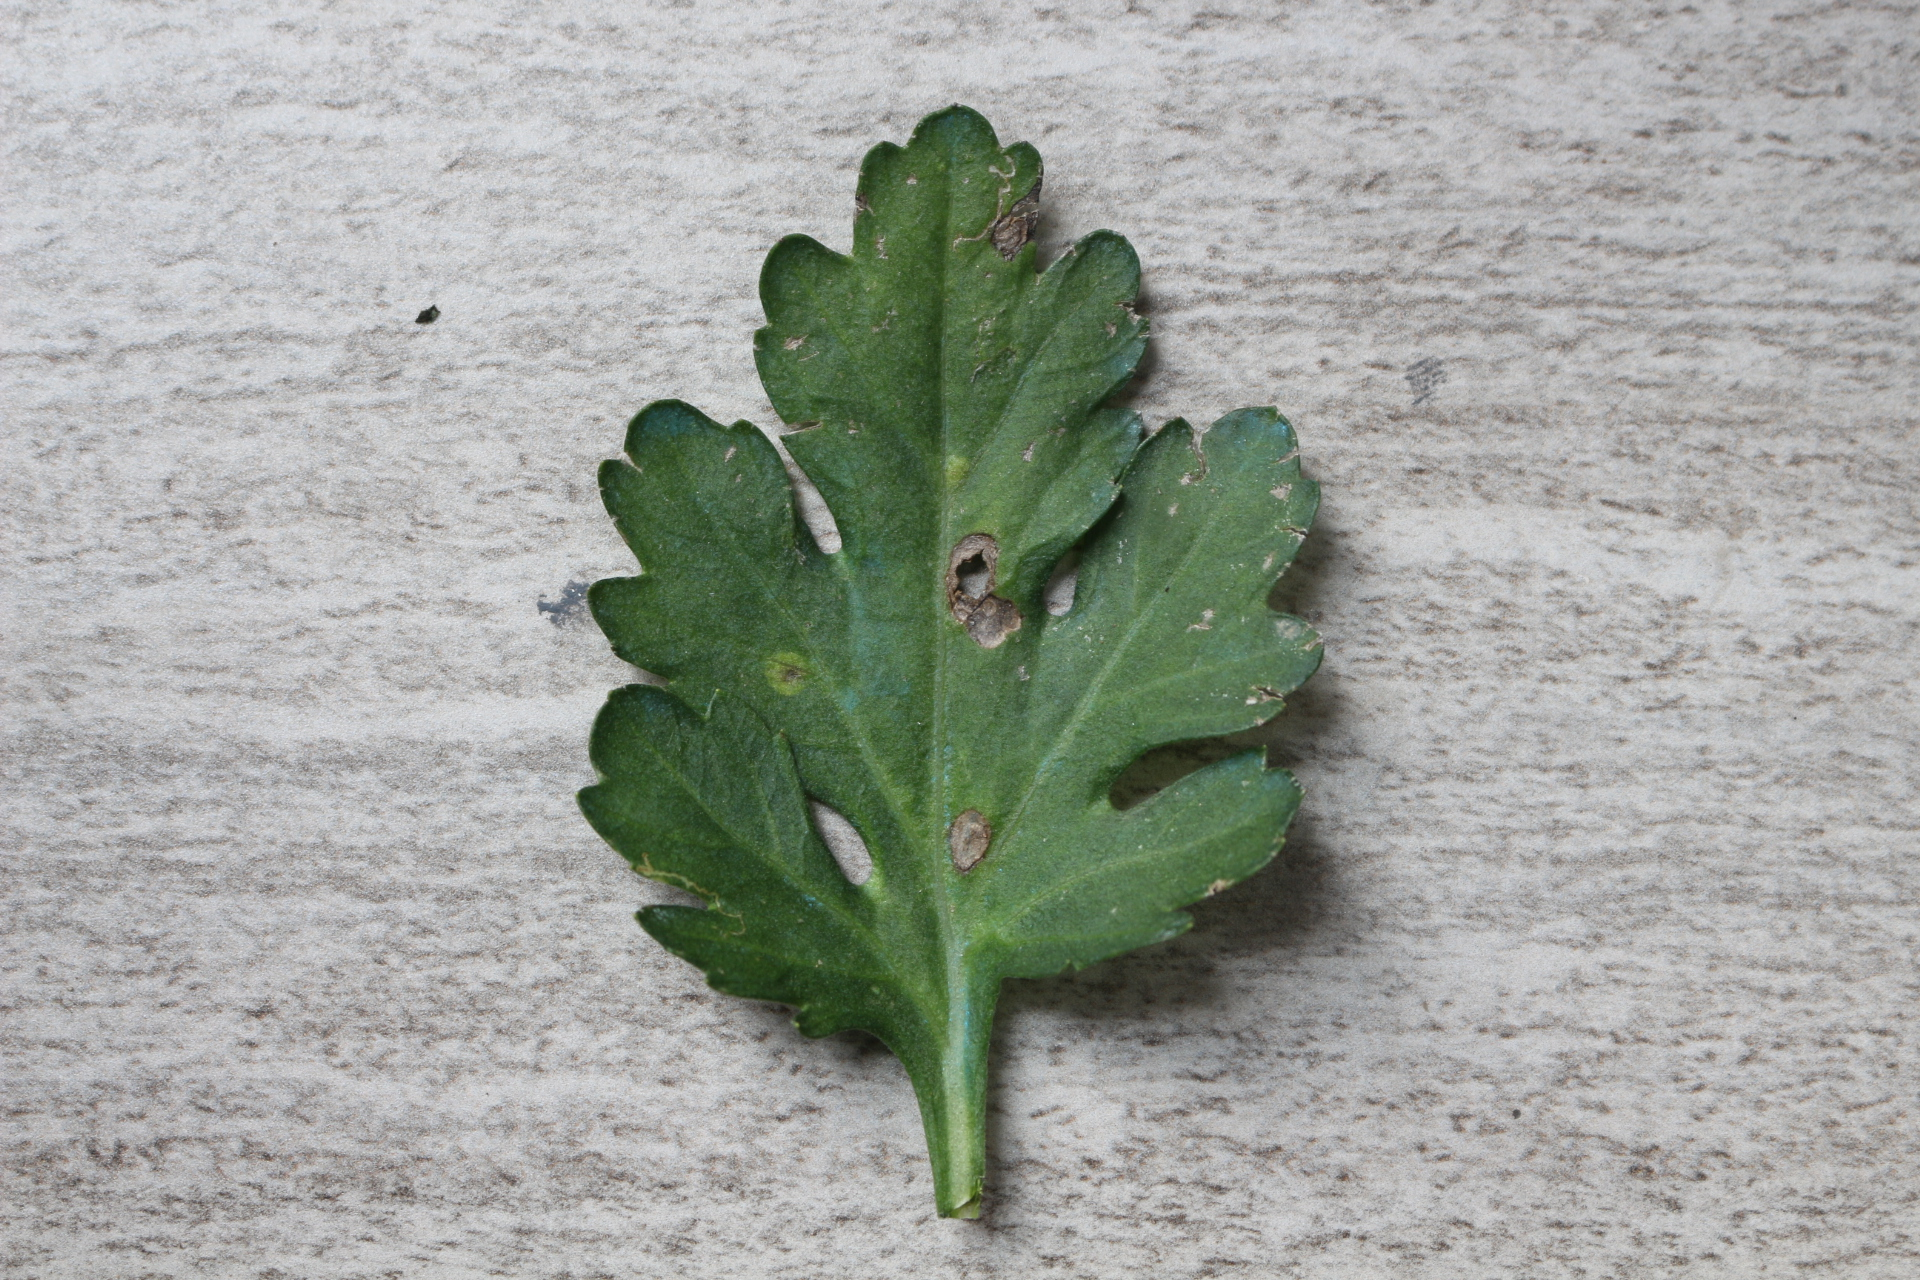namden: (933, 529, 1024, 659), (934, 804, 997, 877), (989, 187, 1041, 261)
namsung: (756, 644, 816, 700), (934, 450, 979, 499)
